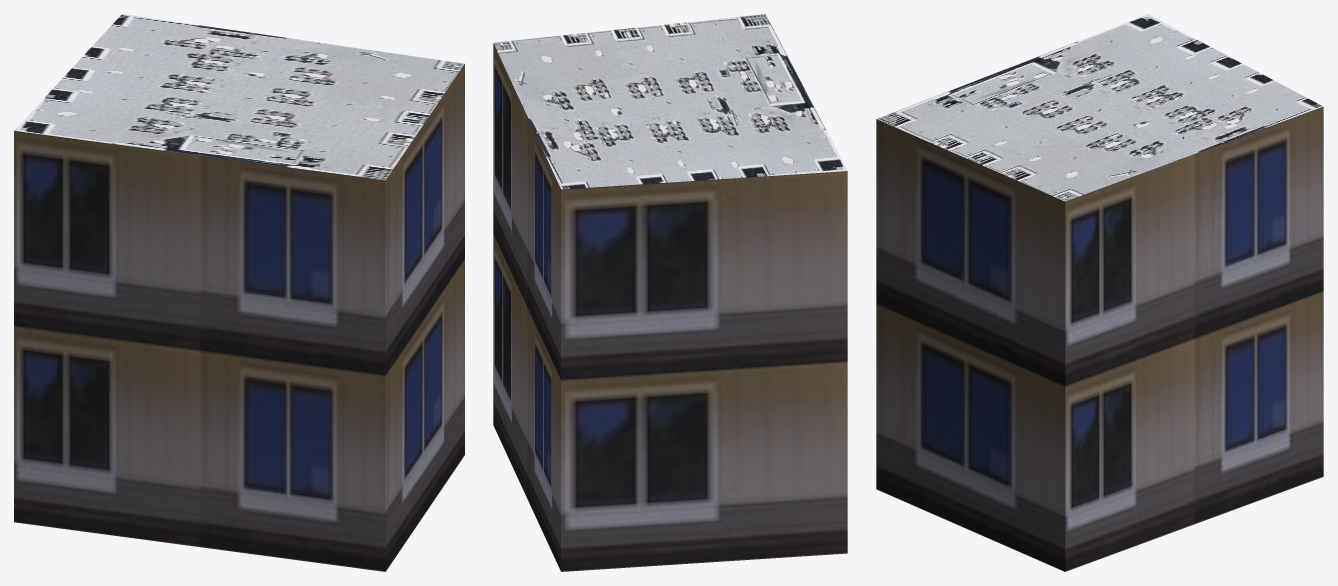
The model's file is ResTex__1292.fbx.
3 renders of one model, left to right at view 1: azimuth 30°, elevation 25°; view 2: azimuth 150°, elevation 25°; view 3: azimuth 270°, elevation 25°, orthographic. The views are drawn at different scales.
Parts seen in each view (by area): view 1: CityEngineMaterial_5_m, CityEngineMaterial_m; view 2: CityEngineMaterial_5_m, CityEngineMaterial_m; view 3: CityEngineMaterial_5_m, CityEngineMaterial_m.
Part boxes in pixels (box(x1,y1,x2,y2)): CityEngineMaterial_5_m: box(14, 64, 464, 571); CityEngineMaterial_m: box(14, 14, 464, 180); CityEngineMaterial_5_m: box(493, 43, 847, 571); CityEngineMaterial_m: box(493, 14, 847, 189); CityEngineMaterial_5_m: box(876, 106, 1323, 571); CityEngineMaterial_m: box(876, 14, 1322, 201).
Size of the model in its own units: 6.52 by 6 by 6.57.
2 materials, 2 textured.
